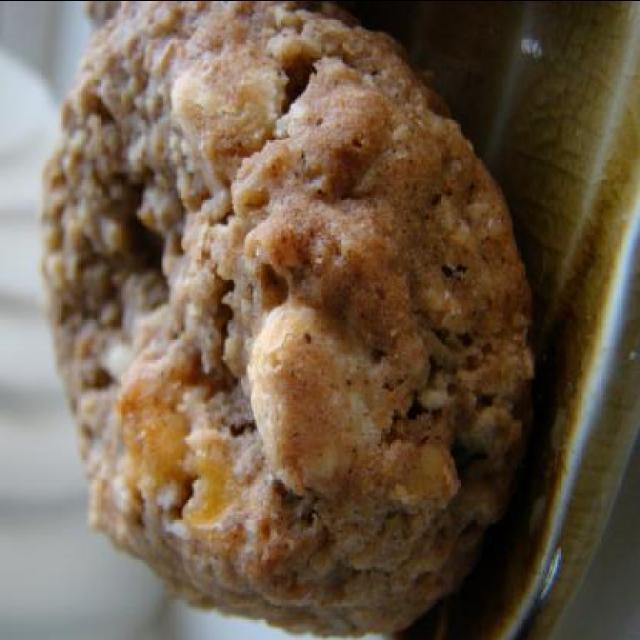Cookie: (37, 1, 540, 639)
